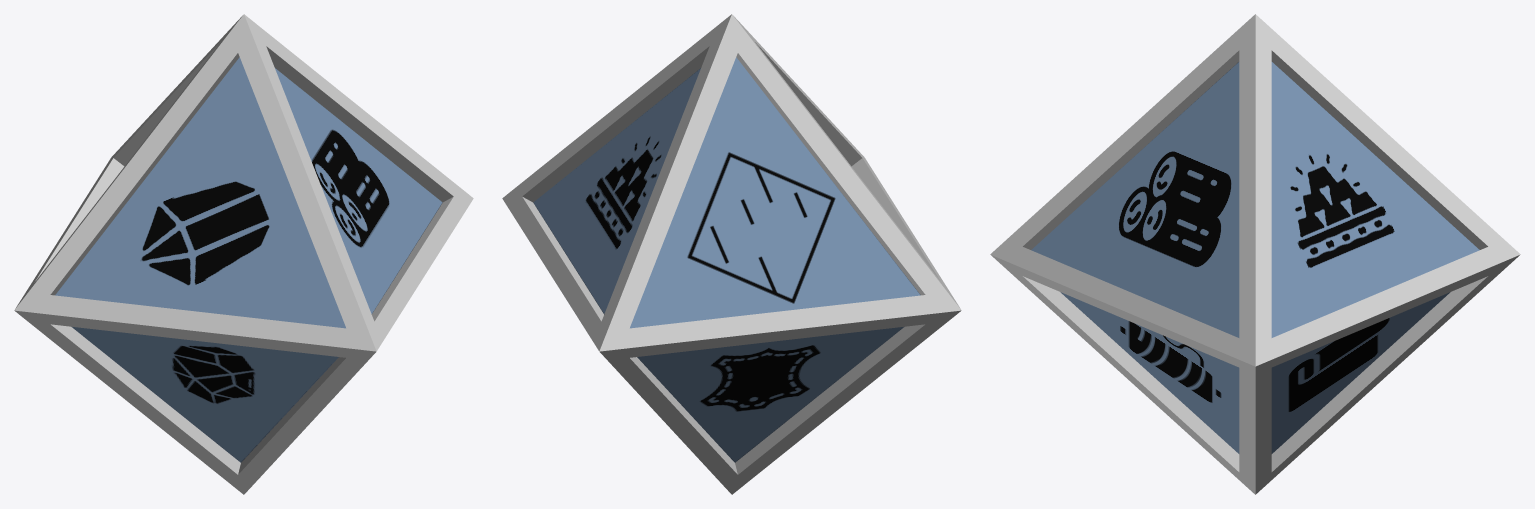
File: dice.fbx
3 renders of one model, left to right at view 1: azimuth 30°, elevation 25°; view 2: azimuth 150°, elevation 25°; view 3: azimuth 270°, elevation 25°, orthographic.
Visible parts, largest first — view 1: pPlatonic1; view 2: pPlatonic1; view 3: pPlatonic1.
Boxes of the visible parts, x1=… form: pPlatonic1: x1=14, y1=14, x2=473, y2=494; pPlatonic1: x1=502, y1=14, x2=961, y2=494; pPlatonic1: x1=990, y1=14, x2=1520, y2=494.
Size of the model in its own units: 2 by 2 by 2.
